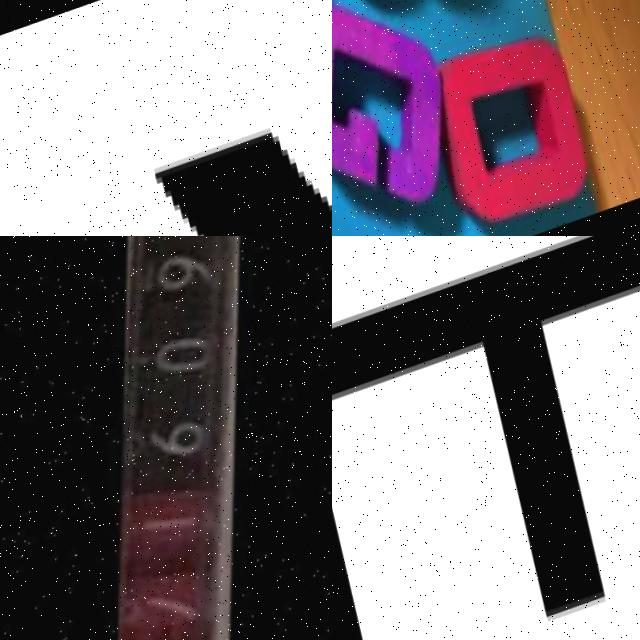0: (147, 321, 229, 393)
1: (0, 72, 332, 236), (136, 492, 220, 556)
6: (145, 236, 231, 309)
9: (138, 401, 225, 478)
E: (332, 236, 640, 622)
G: (332, 0, 484, 236)
O: (414, 7, 614, 236)
